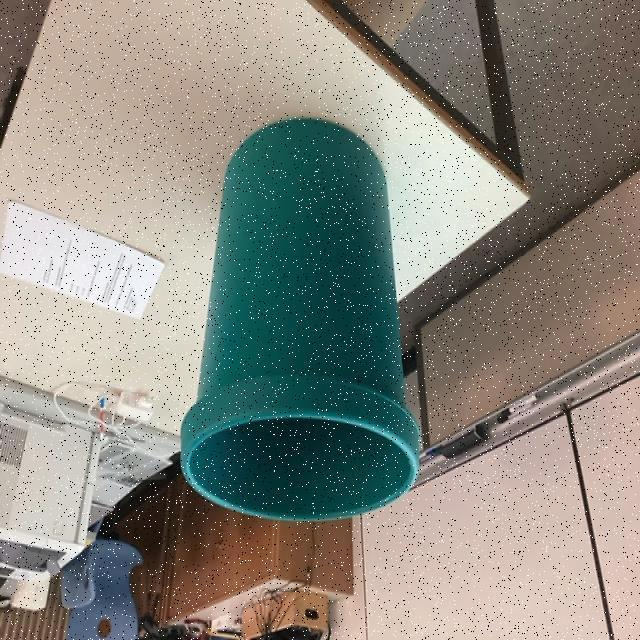garbage container: (170, 117, 446, 534)
